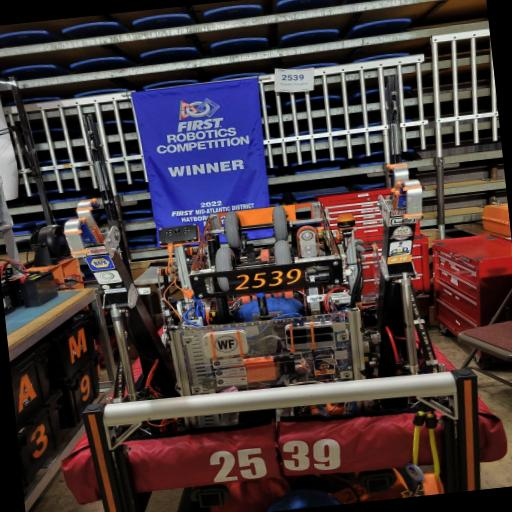robot: (36, 158, 512, 511)
